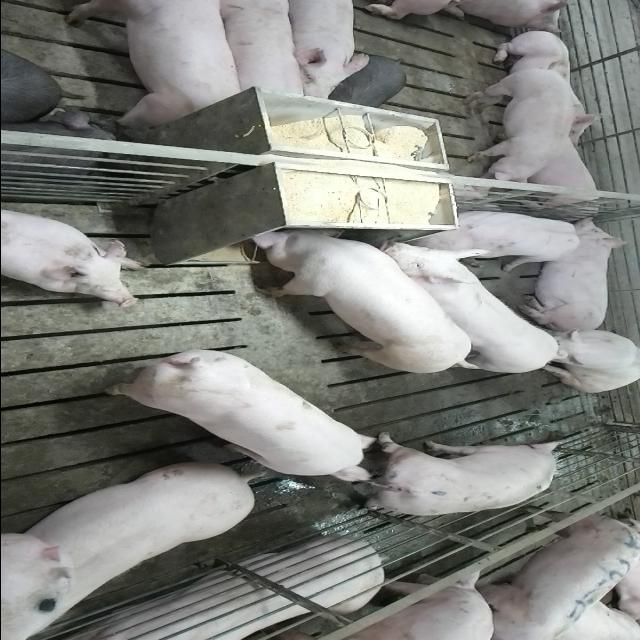Feeding: (246, 218, 474, 370)
Sitting: (530, 327, 640, 392)
Standing: (7, 458, 264, 634), (90, 344, 372, 482), (372, 242, 562, 378), (60, 1, 250, 130), (470, 515, 640, 640), (350, 432, 568, 518), (463, 64, 569, 190), (212, 2, 308, 104), (284, 3, 369, 106), (426, 211, 578, 267)
Sternal_lying: (0, 204, 142, 305), (484, 32, 610, 144), (513, 218, 629, 330), (520, 139, 606, 213)
